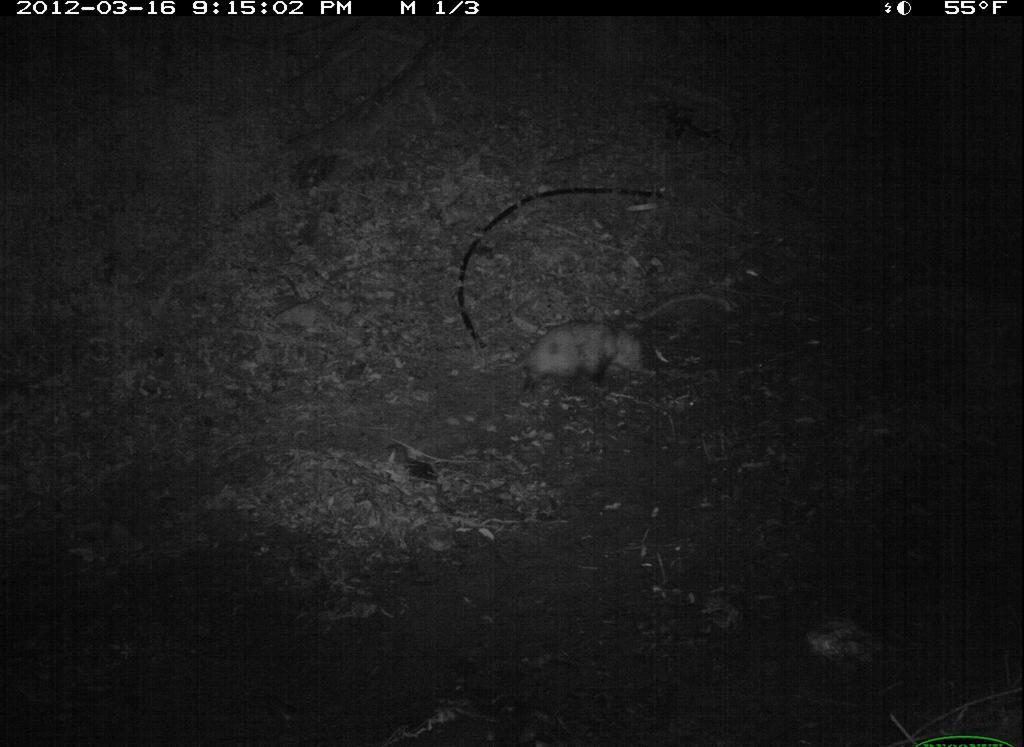opossum: (479, 297, 655, 409)
